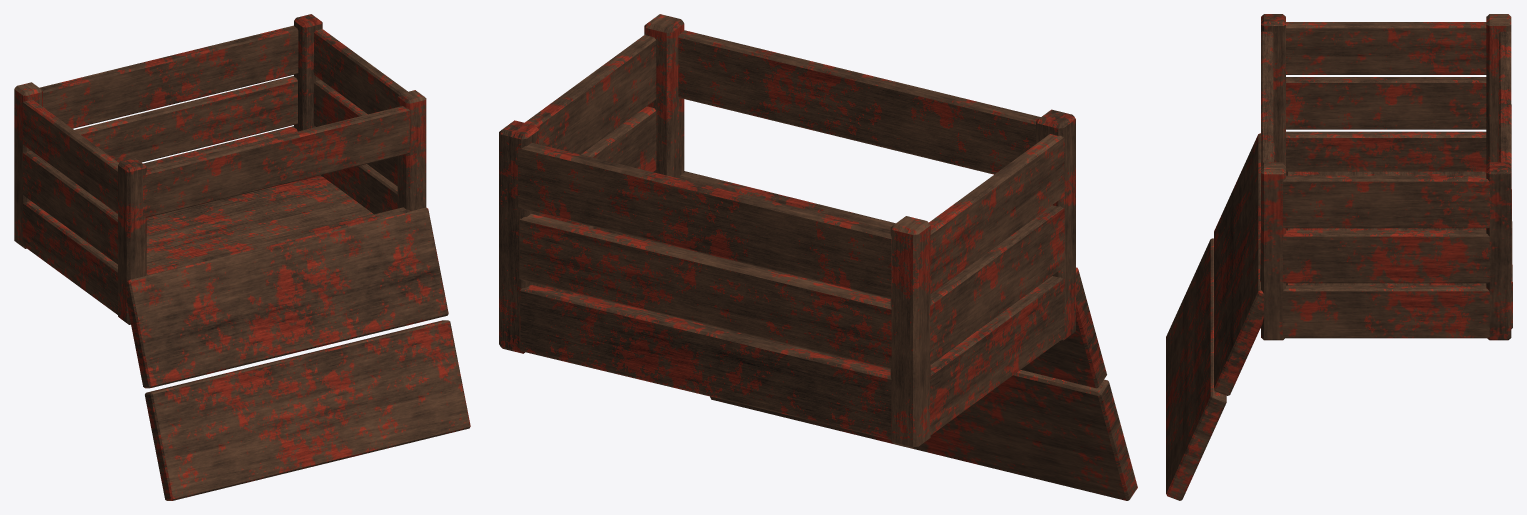
The model's file is Crate_B.glb.
The picture shows the model from 3 angles, left to right: view 1: azimuth 30°, elevation 25°; view 2: azimuth 150°, elevation 25°; view 3: azimuth 270°, elevation 25°; orthographic projection. The views are drawn at different scales.
Visible parts, largest first — view 1: Crate_B__Timber; view 2: Crate_B__Timber; view 3: Crate_B__Timber.
Part boxes in pixels (left/top/right/bottom): Crate_B__Timber: left=14, top=14, right=470, bottom=500; Crate_B__Timber: left=499, top=14, right=1137, bottom=500; Crate_B__Timber: left=1166, top=14, right=1512, bottom=500.
Bounding box in the file's own units: 6 × 5.82 × 5.53.
Materials: 1 (1 with a texture image).
